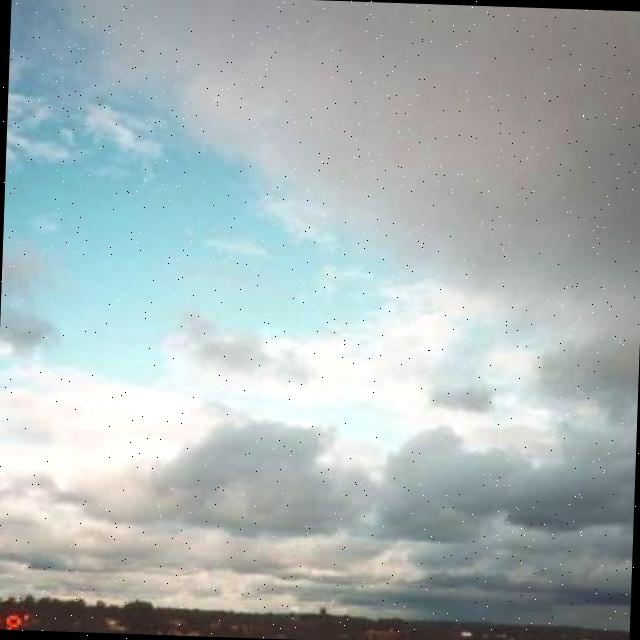Sc: (1, 10, 640, 573)
